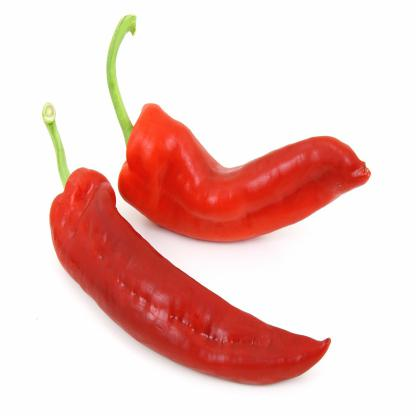chilli: (41, 107, 330, 392), (107, 12, 369, 246)
